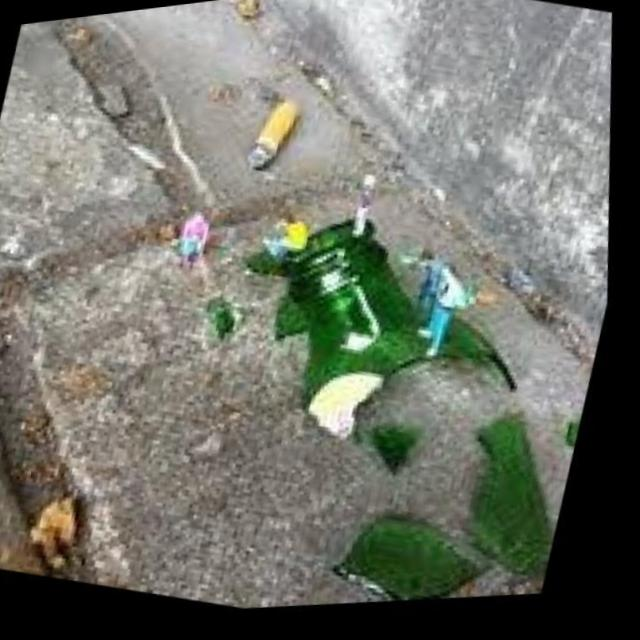foam box: (195, 178, 601, 633)
food: (235, 87, 324, 207)
